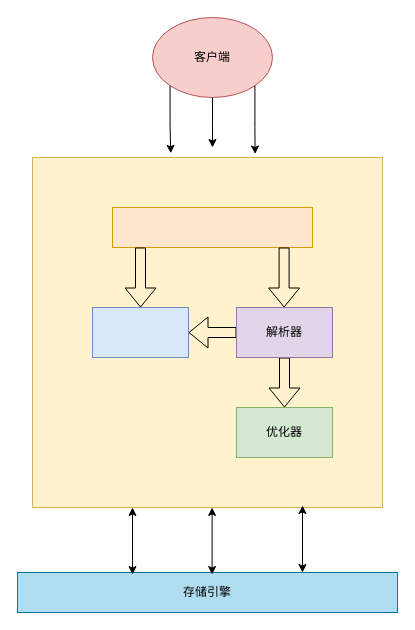
Some shapes in this 415 by 630 pixel diagram are drawn without their labels. The centre of each missing label's shape, as x and y in pixels:
查询缓存: the point at 140,332
连接/线程处理: the point at 212,227
